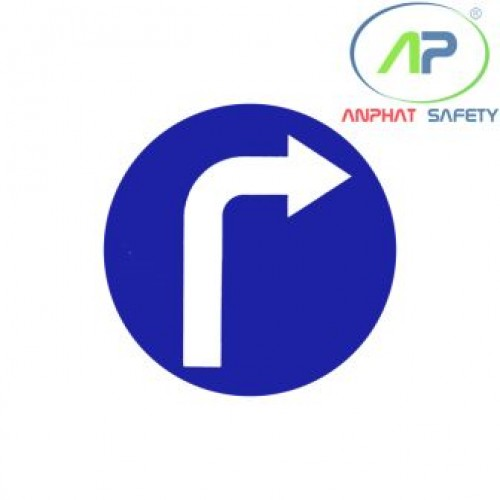Turn_right: (99, 103, 398, 397)
